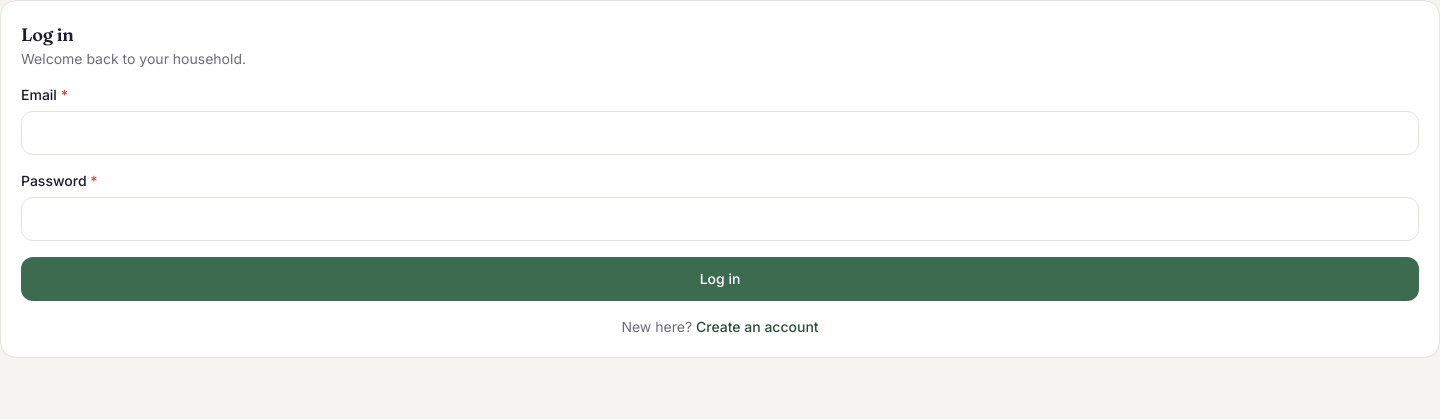
LoginPage › validates required fields on submit without input
This screenshot has width=1440, height=419.
Click the button "Log in": (720, 279) [21,257,1419,301]
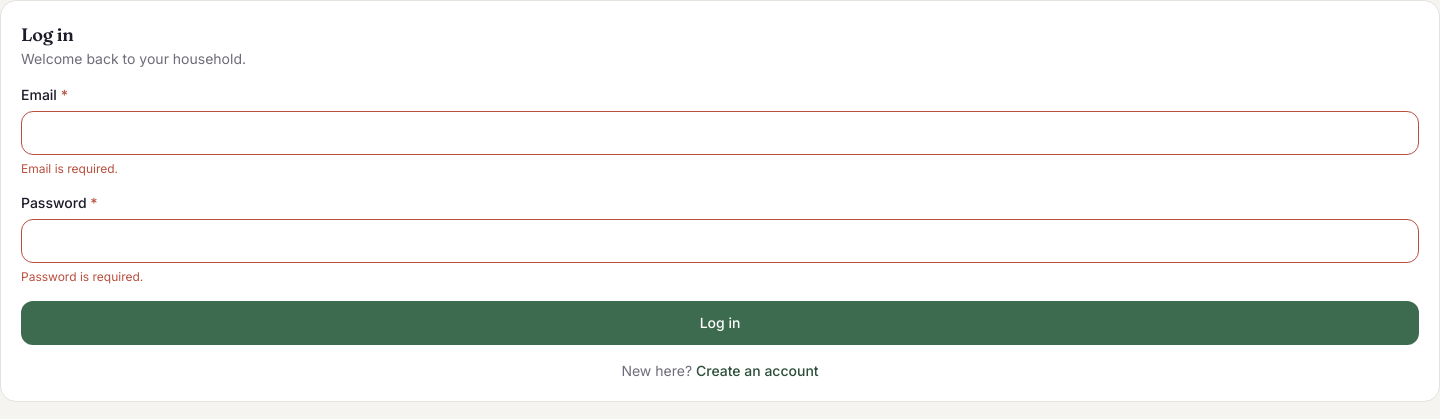
Result: the text "Email is required." is shown at [21,161,118,176]
Result: the text "Password is required." is shown at [21,269,143,284]
